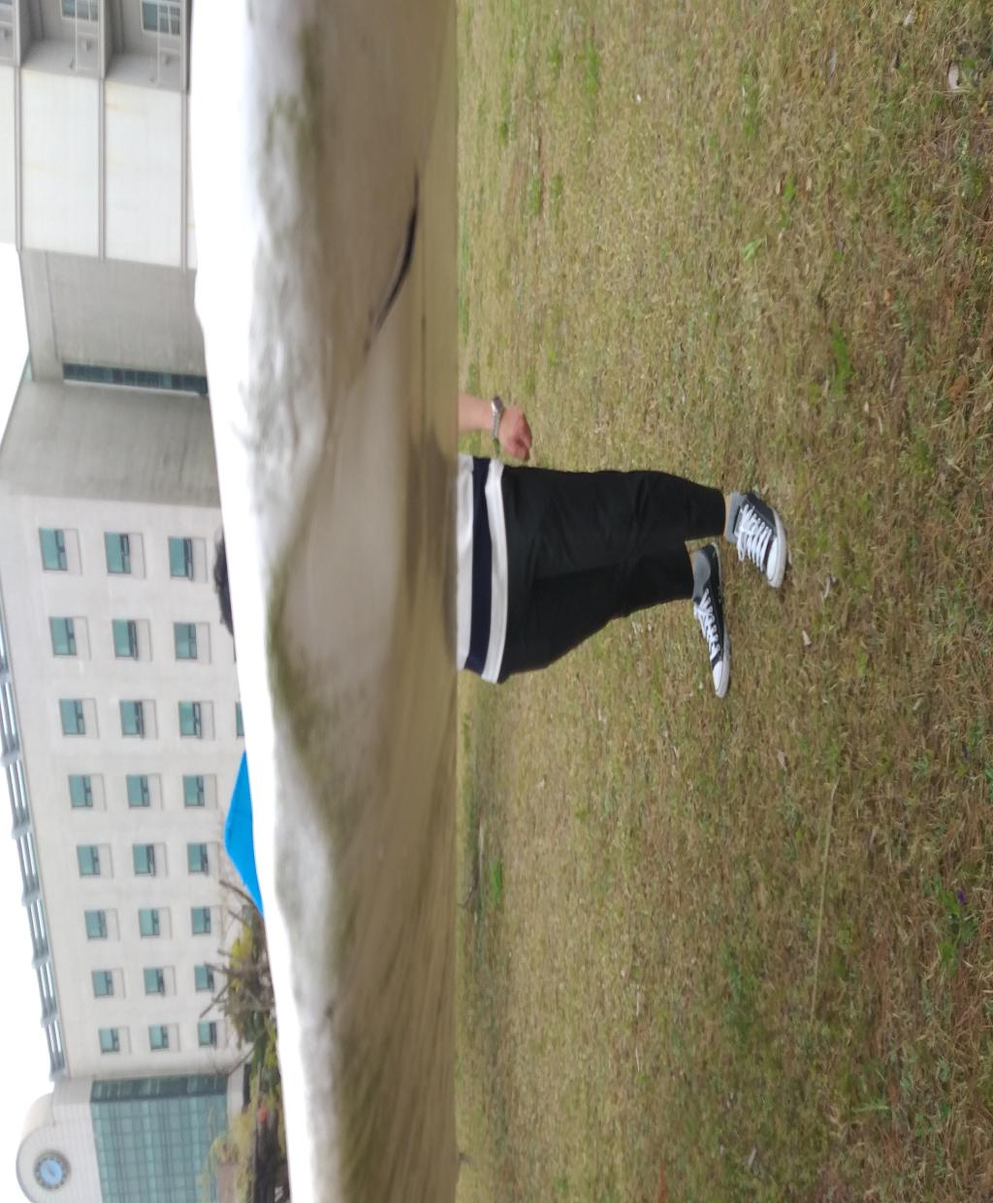dent: (200, 572, 415, 879), (105, 581, 190, 700)
